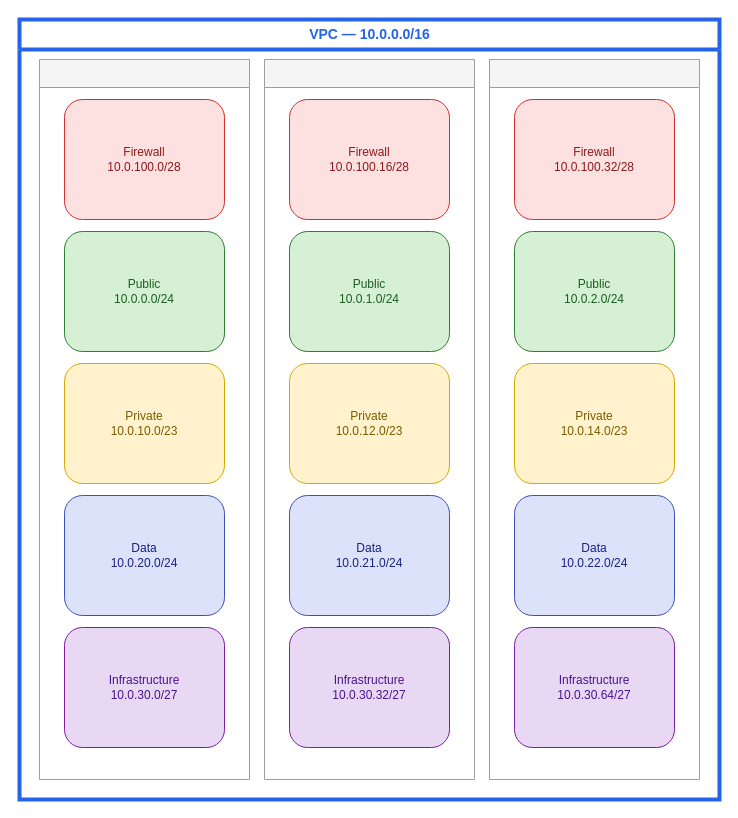
This 738x818 diagram has some shape labels left out. The shapes that lost their labels are listed below. From the top down, each one's box as (x1, y1, x2, y2) in pixels, then its label:
(38, 58, 250, 780): Availability Zone A
(264, 58, 474, 780): Availability Zone B
(488, 58, 700, 780): Availability Zone C
